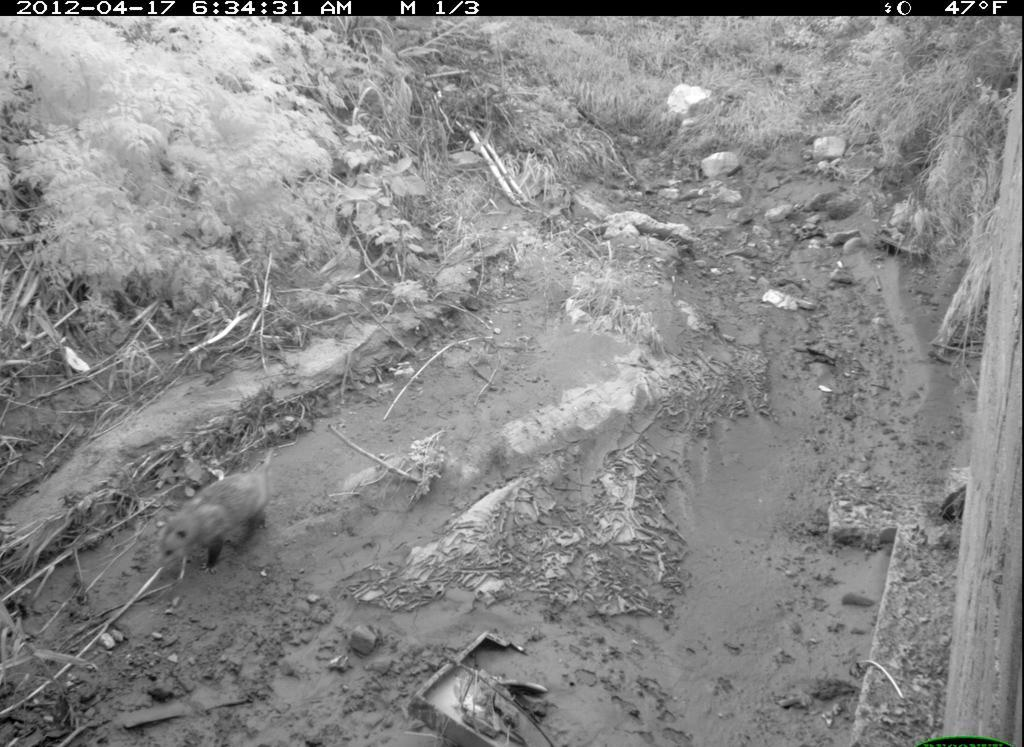opossum: (155, 445, 294, 571)
